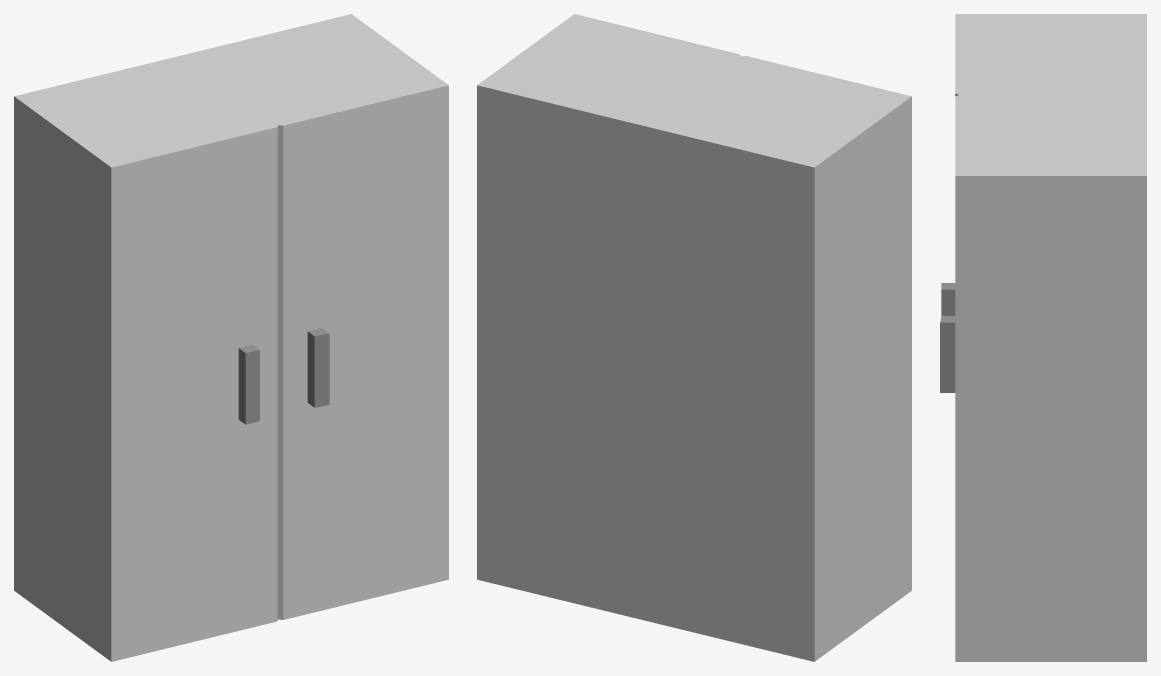
The model's file is Cupboard2.fbx.
The picture shows the model from 3 angles, left to right: view 1: azimuth 30°, elevation 25°; view 2: azimuth 150°, elevation 25°; view 3: azimuth 270°, elevation 25°; orthographic projection.
Visible parts, largest first — view 1: Cubboard; view 2: Cubboard; view 3: Cubboard.
Part boxes in pixels (x1,y1,x2,y2): Cubboard: (14,14,448,661); Cubboard: (477,14,911,661); Cubboard: (940,14,1146,661).
Bounding box in the file's own units: 2000 × 2800 × 1080.
